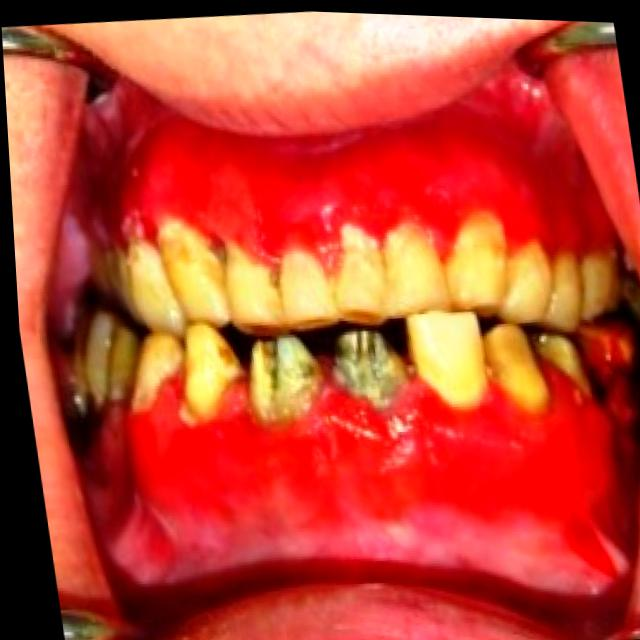gingivitis: (87, 368, 613, 538), (122, 149, 585, 266)
